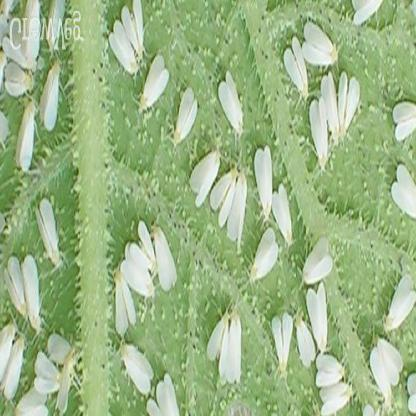whitefly: (190, 151, 221, 209), (284, 37, 308, 108), (139, 58, 169, 113), (219, 70, 243, 138), (210, 167, 237, 227), (251, 227, 279, 282), (253, 143, 273, 217), (303, 237, 332, 285), (174, 87, 198, 144), (227, 172, 247, 239), (273, 183, 292, 242)
